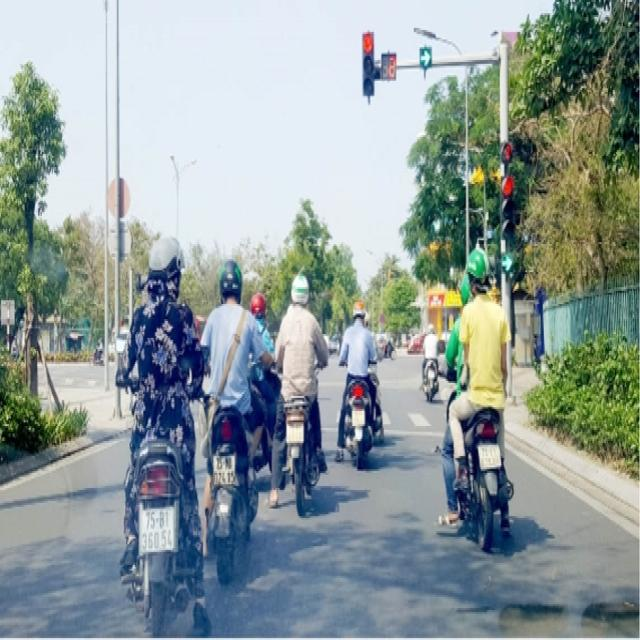1-2-helmet: (148, 236, 185, 281), (219, 260, 242, 295)
